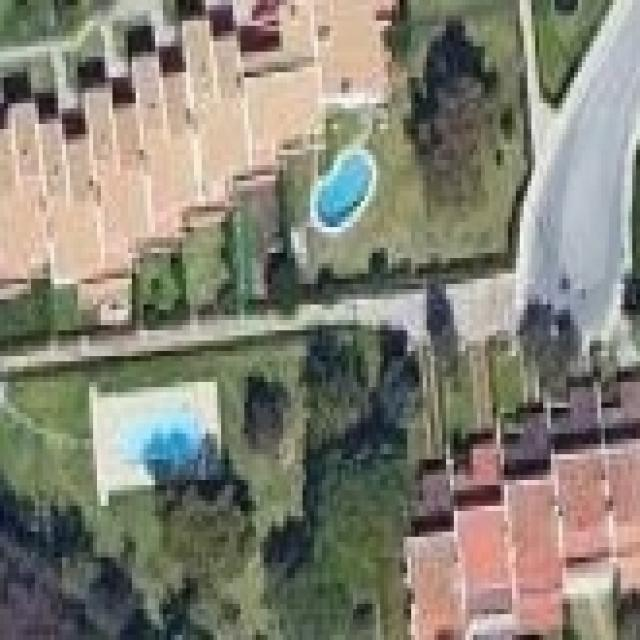pool: (284, 128, 403, 249), (112, 399, 208, 490)
